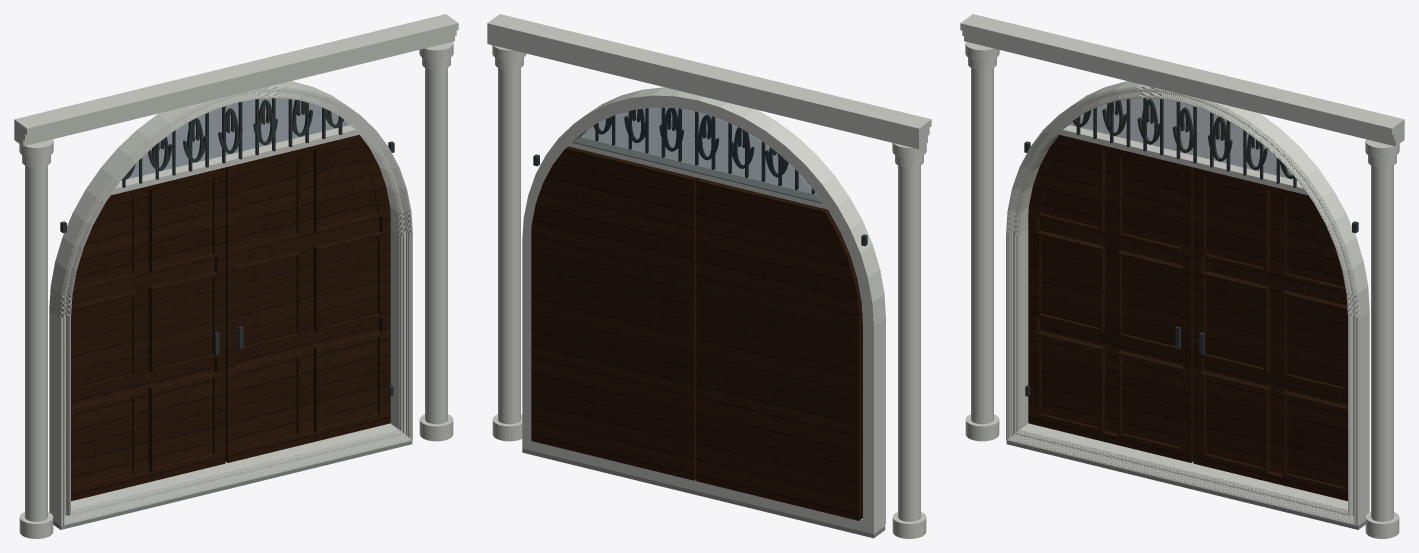
The model's file is barroco_arch_porton.glb.
3 views of the same model, side by side, from view 1: azimuth 30°, elevation 25°; view 2: azimuth 150°, elevation 25°; view 3: azimuth 330°, elevation 25° (orthographic).
Parts seen in each view (by area): view 1: door_portal_cornice#0003, door_column#0002, door_column#0006, door_leaf_frame#0002, door_panel_back#0001, door_panel_back#0002, door_reveal#0001, door_coffer#0011, door_coffer#0005, door_coffer#0004, door_coffer#0010, door_coffer#0006 (+87 smaller); view 2: door_panel_back#0001, door_panel_back#0002, door_reveal#0001, transom_glass#0001, door_leaf_frame#0001, door_leaf_frame#0002, door_portal_cornice#0003, door_column#0002, door_column#0006, transom_grille#0001, door_moulding#0096, door_portal_cornice#0002 (+5 smaller); view 3: door_portal_cornice#0003, door_column#0006, door_column#0002, door_leaf_frame#0001, door_panel_back#0002, door_panel_back#0001, door_reveal#0001, door_coffer#0002, door_coffer#0008, door_coffer#0007, door_coffer#0001, transom_grille#0001 (+87 smaller).
Boxes of the visible parts, bbox=[...] form: door_portal_cornice#0003: bbox=[14, 14, 458, 135]; door_column#0002: bbox=[25, 165, 47, 521]; door_column#0006: bbox=[425, 68, 447, 424]; door_leaf_frame#0002: bbox=[225, 134, 390, 462]; door_panel_back#0001: bbox=[71, 190, 214, 473]; door_panel_back#0002: bbox=[236, 150, 378, 433]; door_reveal#0001: bbox=[49, 81, 395, 521]; door_coffer#0011: bbox=[313, 230, 379, 331]; door_coffer#0005: bbox=[148, 271, 214, 371]; door_coffer#0004: bbox=[148, 371, 214, 471]; door_coffer#0010: bbox=[313, 331, 379, 430]; door_coffer#0006: bbox=[148, 177, 212, 271]; door_panel_back#0001: bbox=[704, 191, 850, 510]; door_panel_back#0002: bbox=[539, 158, 685, 469]; door_reveal#0001: bbox=[522, 91, 878, 534]; transom_glass#0001: bbox=[572, 107, 822, 203]; door_leaf_frame#0001: bbox=[696, 178, 862, 520]; door_leaf_frame#0002: bbox=[531, 146, 698, 480]; door_portal_cornice#0003: bbox=[487, 14, 931, 135]; door_column#0002: bbox=[898, 165, 920, 521]; door_column#0006: bbox=[498, 68, 520, 424]; transom_grille#0001: bbox=[593, 108, 814, 193]; door_moulding#0096: bbox=[584, 87, 884, 530]; door_portal_cornice#0002: bbox=[487, 30, 929, 142]; door_portal_cornice#0003: bbox=[960, 14, 1404, 135]; door_column#0006: bbox=[1371, 165, 1393, 521]; door_column#0002: bbox=[971, 68, 993, 424]; door_leaf_frame#0001: bbox=[1028, 134, 1193, 462]; door_panel_back#0002: bbox=[1204, 190, 1347, 473]; door_panel_back#0001: bbox=[1040, 150, 1182, 433]; door_reveal#0001: bbox=[1023, 81, 1369, 520]; door_coffer#0002: bbox=[1039, 230, 1105, 331]; door_coffer#0008: bbox=[1204, 271, 1270, 371]; door_coffer#0007: bbox=[1204, 371, 1270, 471]; door_coffer#0001: bbox=[1039, 331, 1105, 430]; transom_grille#0001: bbox=[1072, 98, 1296, 187].
Bounding box in the file's own units: 3.93 × 3.62 × 0.3594.
Materials: 6 (1 with a texture image).
